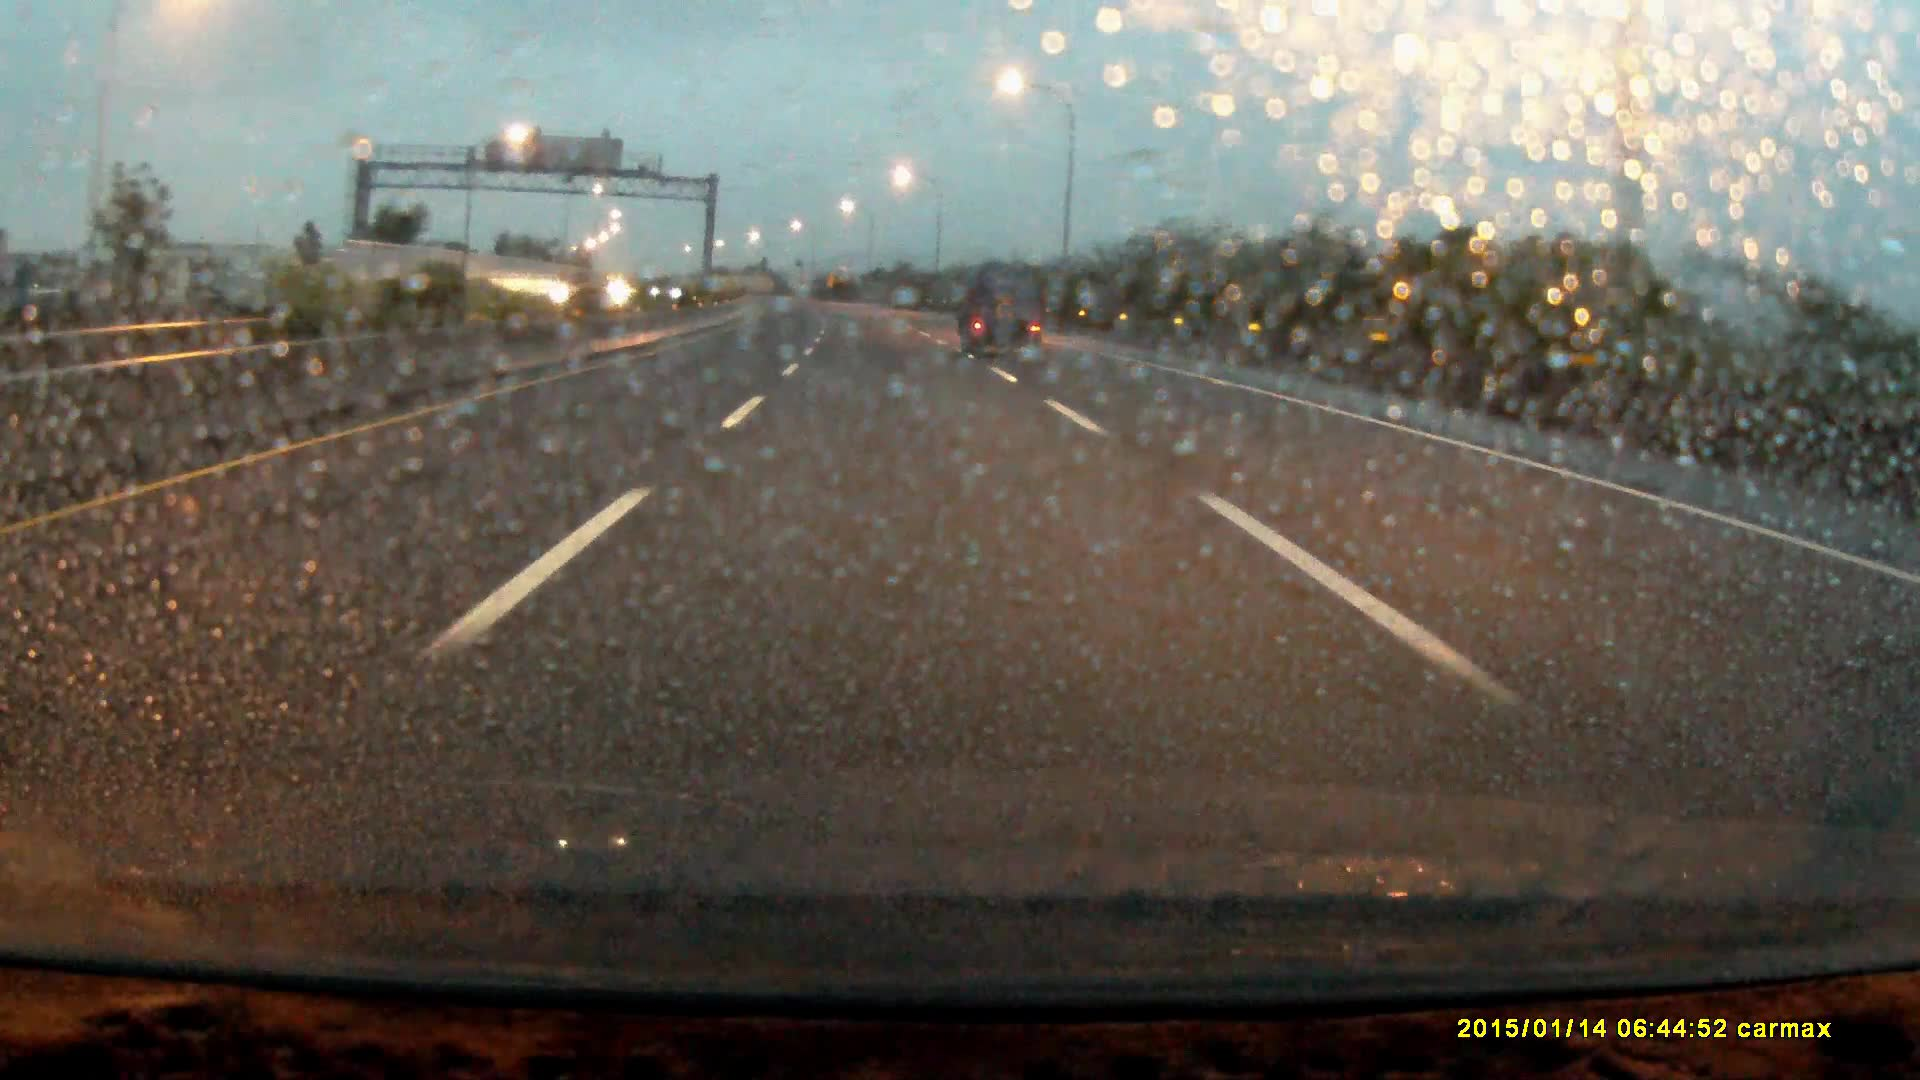vehicle: (963, 273, 1048, 361), (553, 272, 600, 309)
